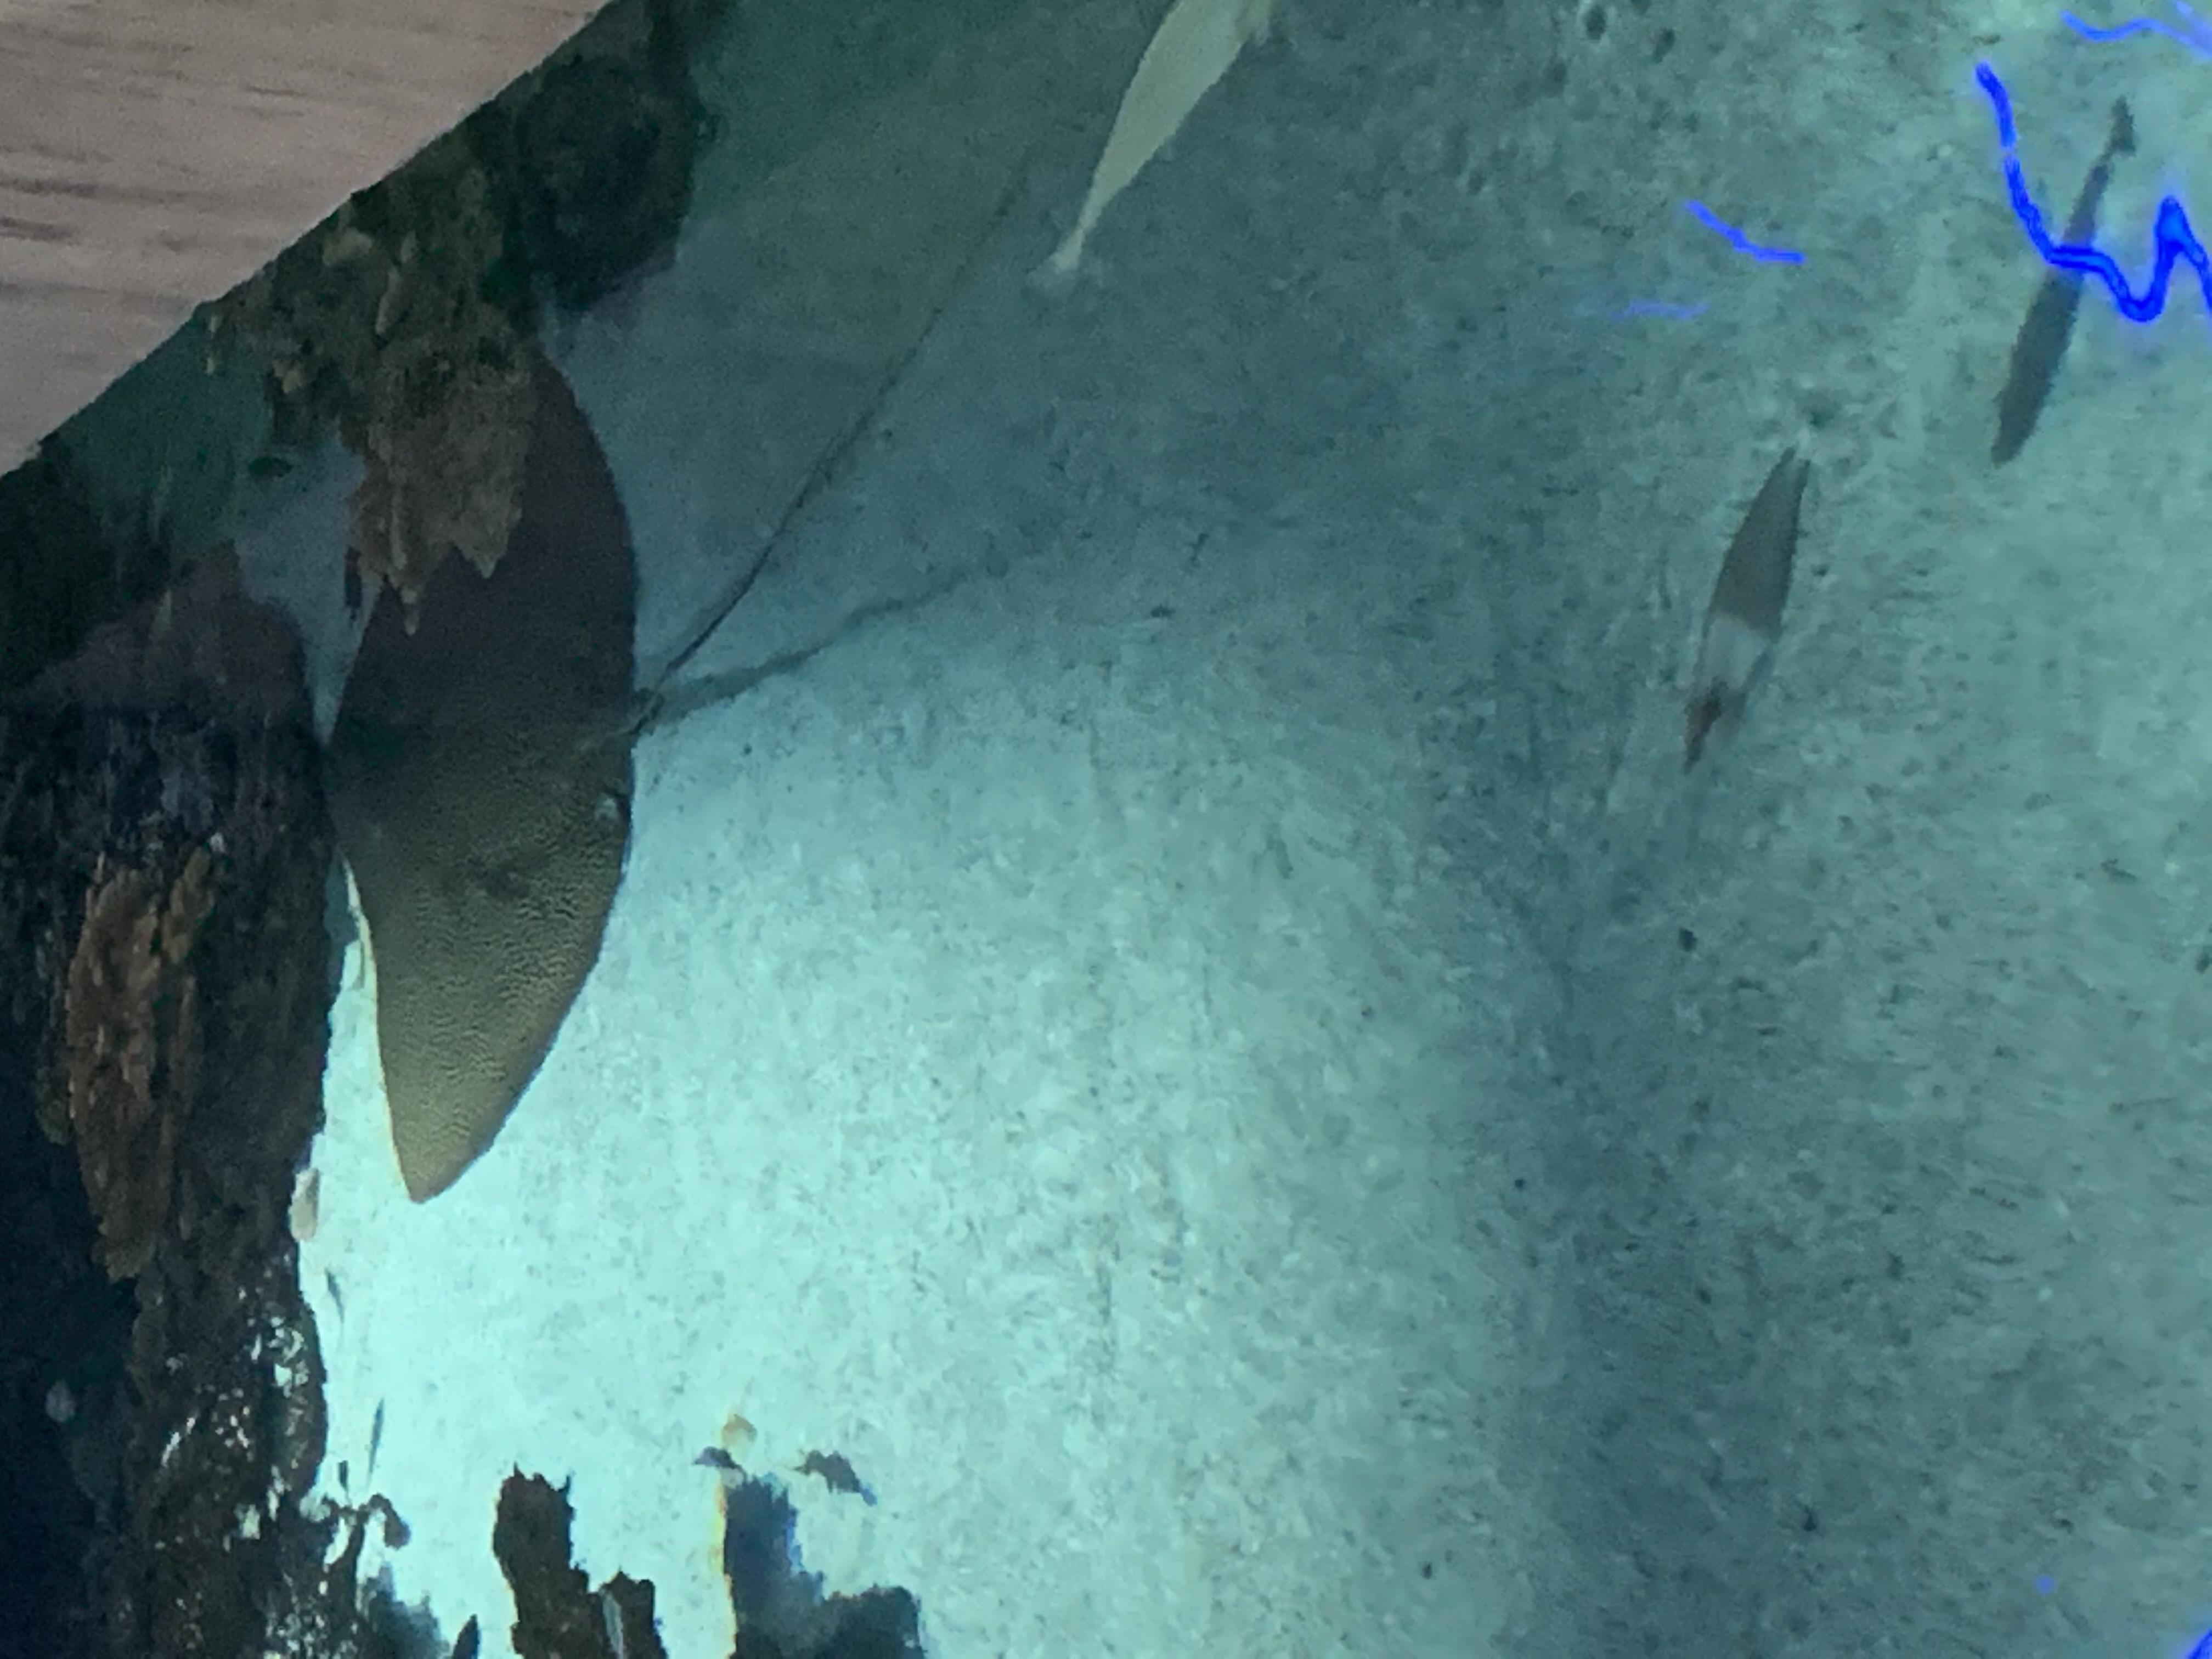fish: (1035, 0, 1273, 301), (1674, 382, 1839, 782), (1993, 99, 2137, 467)
stingray: (317, 333, 636, 1211)
